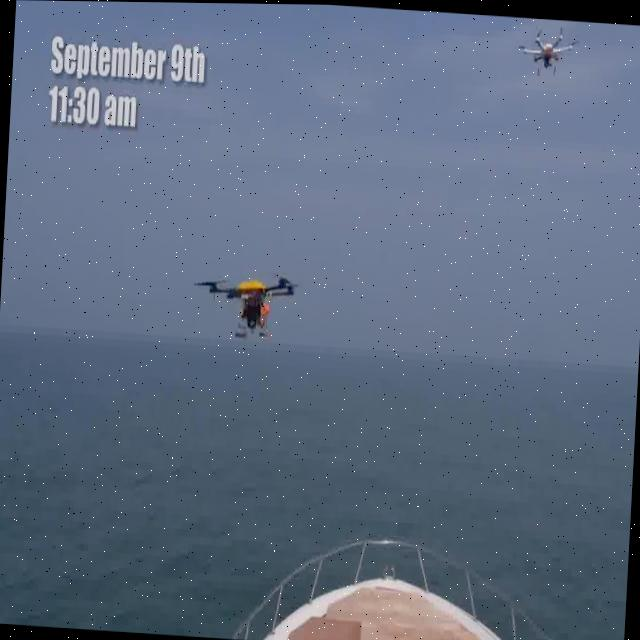drone: (198, 264, 298, 340)
